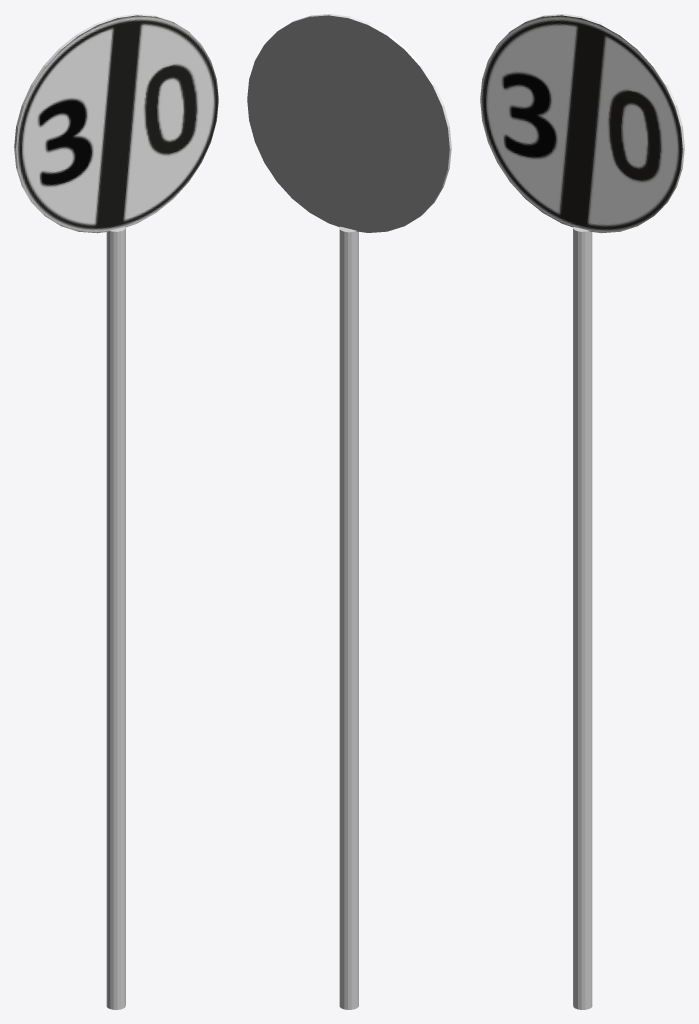
Rendered from 30_hiz_sinirlamasi_sonu.fbx.
3 views of the same model, side by side, from view 1: azimuth 30°, elevation 25°; view 2: azimuth 150°, elevation 25°; view 3: azimuth 330°, elevation 25° (orthographic).
Visible parts, largest first — view 1: 30_hiz_sinirlamasi_sonu; view 2: 30_hiz_sinirlamasi_sonu; view 3: 30_hiz_sinirlamasi_sonu.
Boxes of the visible parts, bbox=[...] form: 30_hiz_sinirlamasi_sonu: bbox=[14, 14, 218, 1009]; 30_hiz_sinirlamasi_sonu: bbox=[247, 14, 451, 1009]; 30_hiz_sinirlamasi_sonu: bbox=[480, 14, 684, 1009].
Size of the model in its own units: 60 by 280 by 5.
Materials: 3 (1 with a texture image).
